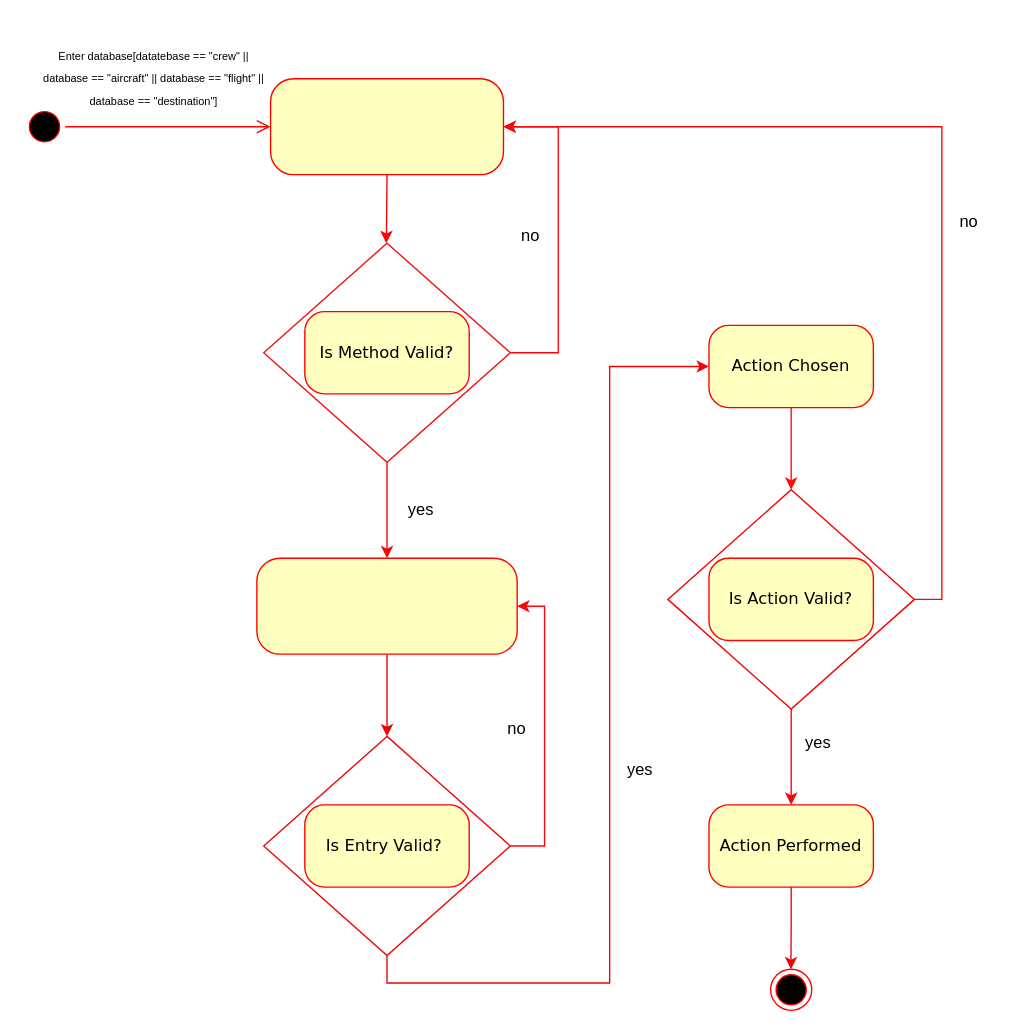
Image size: 1034x1034. Some labels were removed from this diagram. The centre of each missing label's shape, as x and y in pixels:
Database Entered ______________________ entry/Enter manipulation method: the point at 386,126
Method Chosen _________________________ entry/ Select entry to manipulate: the point at 386,605
